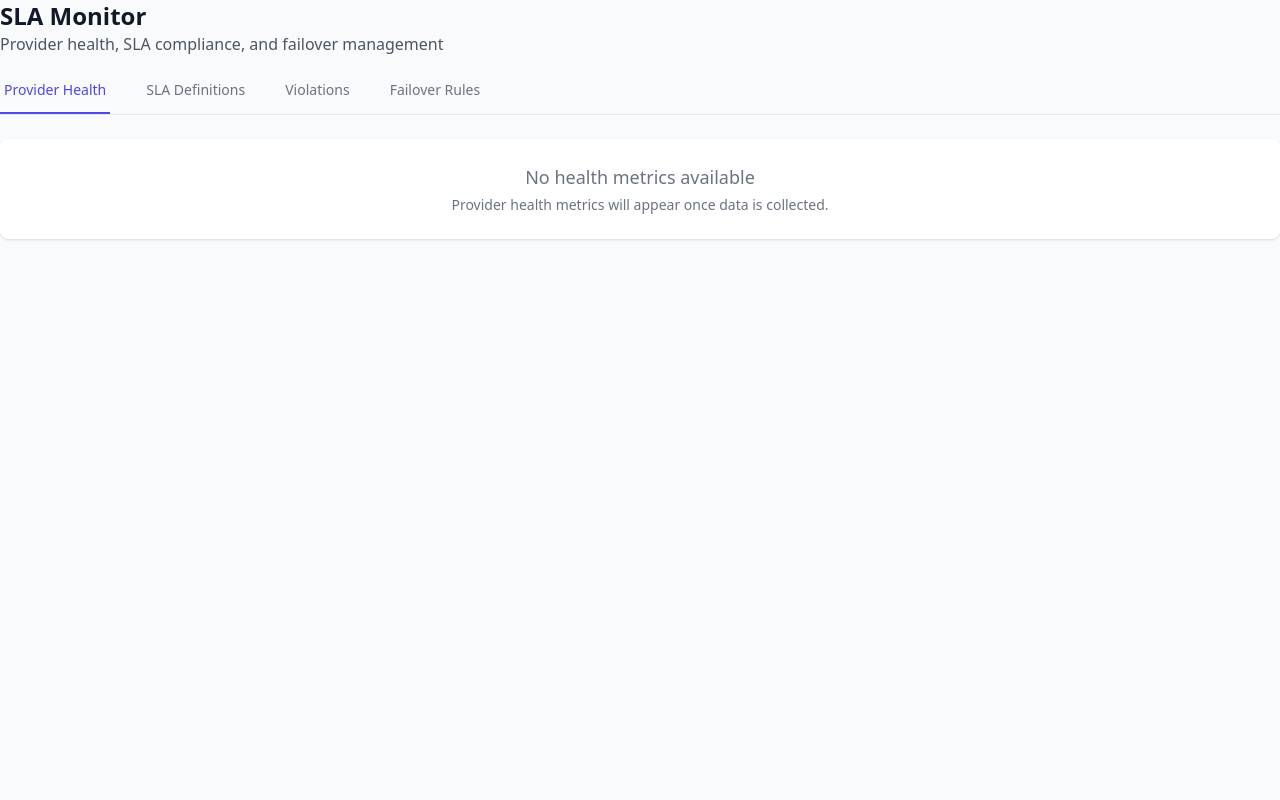
Scenario: SLAMonitoring › opens and closes create SLA definition modal
This screenshot has width=1280, height=800.
Step 1. Click the button "SLA Definitions" → (196, 97), box x1=142 y1=80 x2=249 y2=114
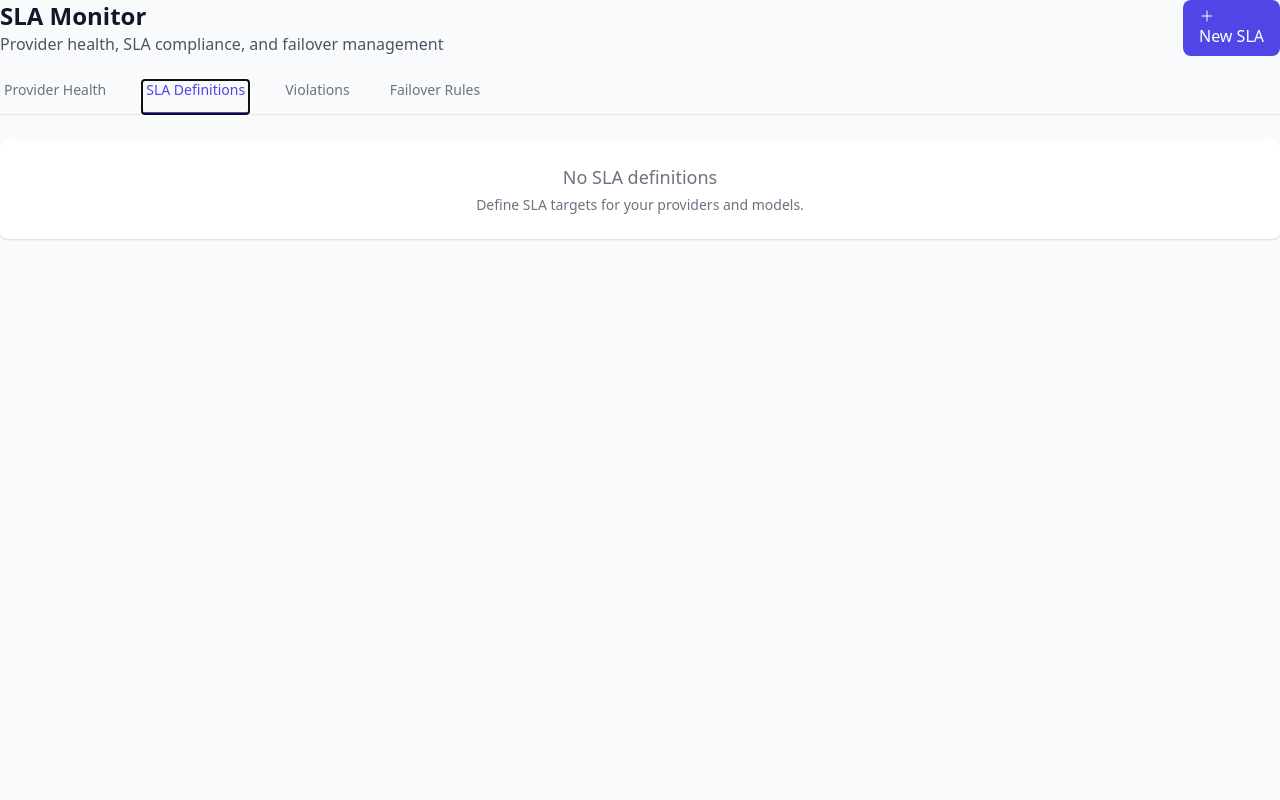
Step 2. Click the button "New SLA" → (1232, 28), box x1=1183 y1=0 x2=1279 y2=56
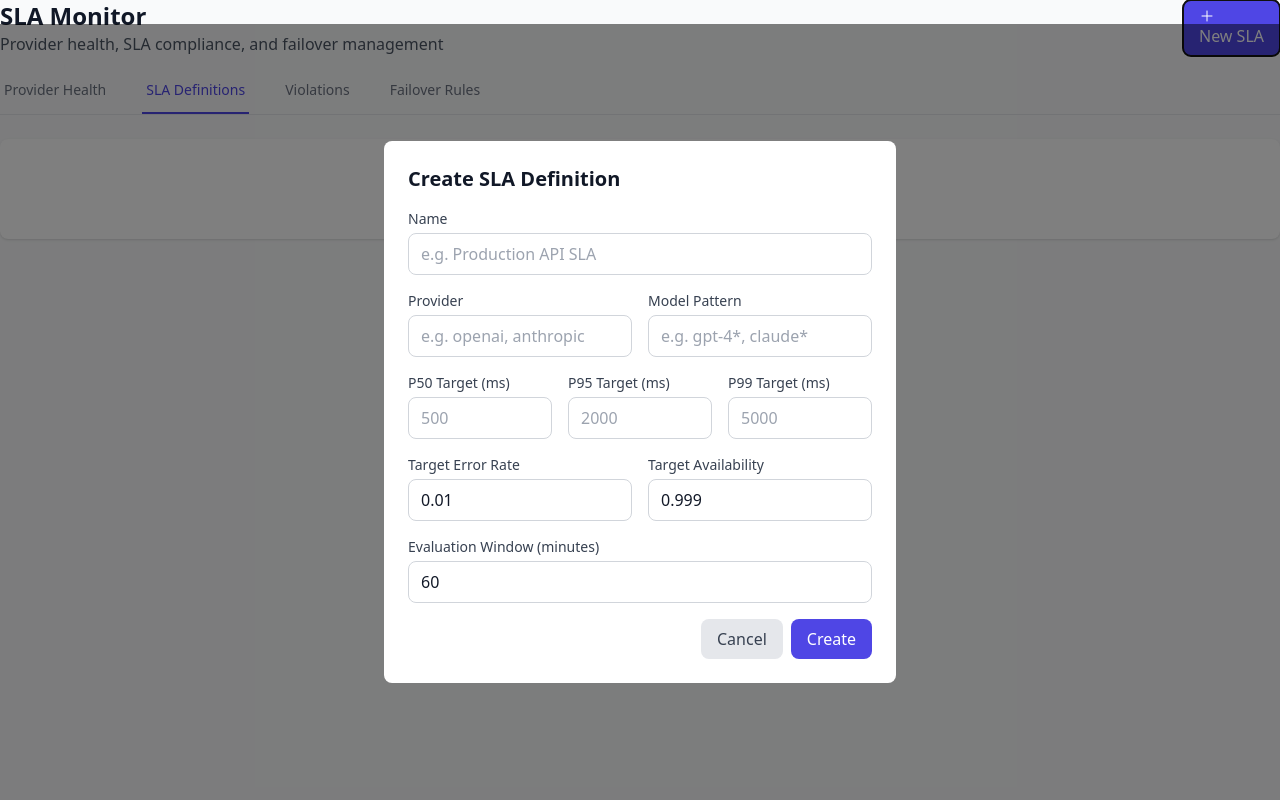
Check: the heading "Create SLA Definition" is shown, box x1=408 y1=165 x2=620 y2=192
Check: the field with placeholder "e.g. Production API SLA" is shown, box x1=408 y1=233 x2=872 y2=275
Check: the field with placeholder "e.g. openai, anthropic" is shown, box x1=408 y1=315 x2=632 y2=357
Step 3. Click the button "Cancel" → (742, 639), box x1=701 y1=619 x2=783 y2=659
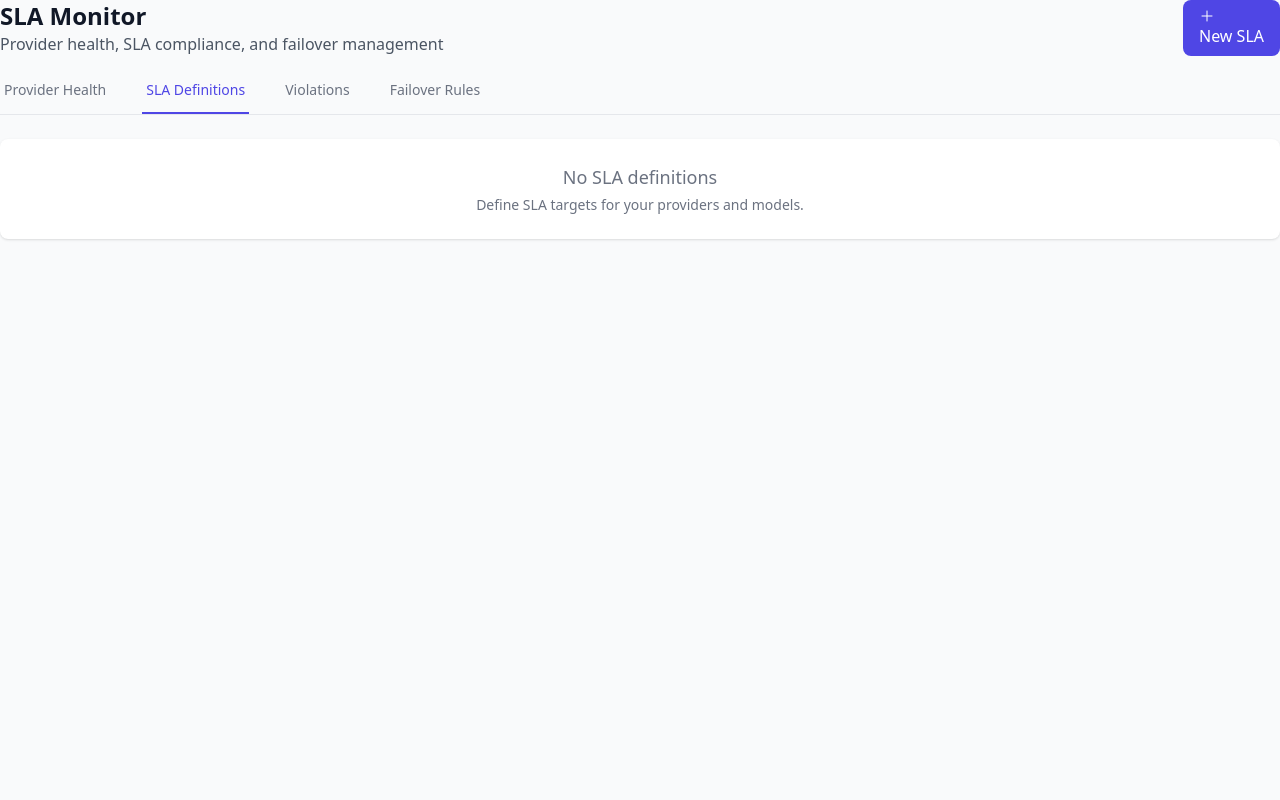
Check: the heading "Create SLA Definition" is gone
